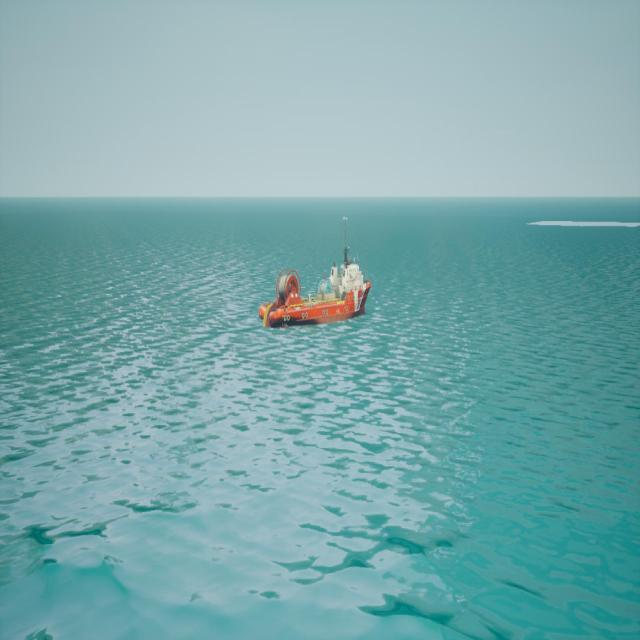tug boat: (263, 217, 374, 332)
